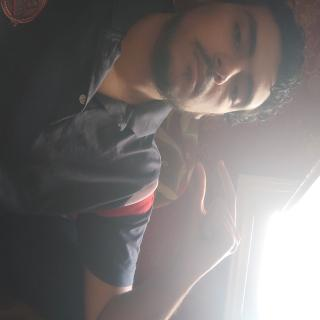DELL: (116, 105, 230, 224)
